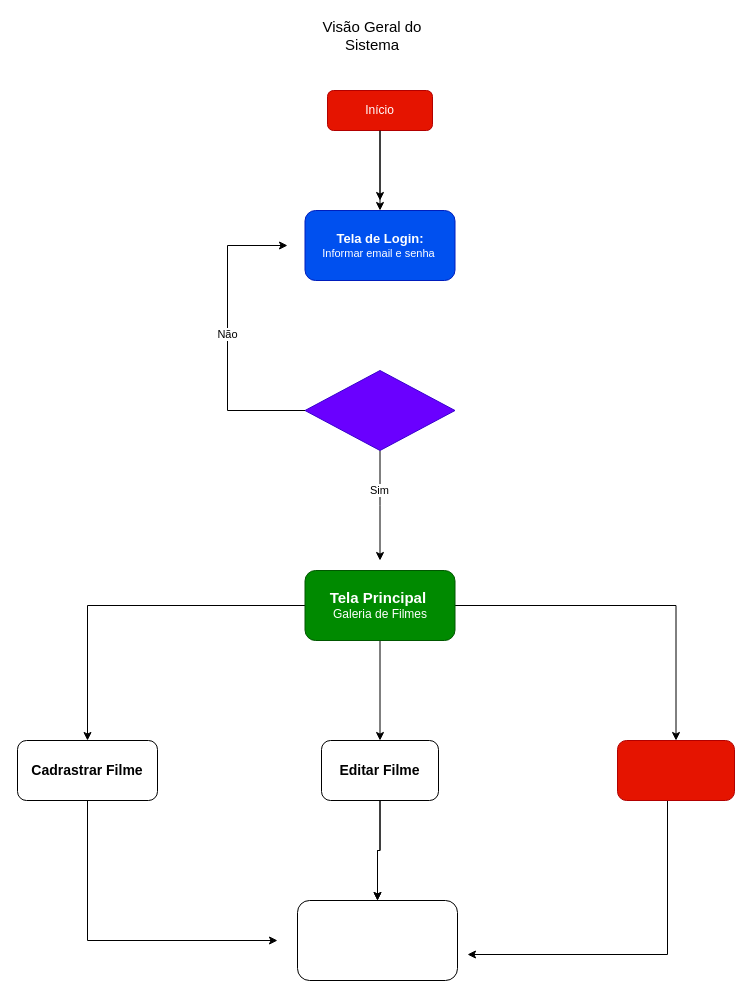
Image size: 752x998. Some labels were removed from this diagram. The centre of each missing label's shape, as x and y in pixels:
Atualizar a Lista de Filmes Galeria de Filmes: the point at 377,940
Login válido?: the point at 379,410
Remover Filme: the point at 675,770
